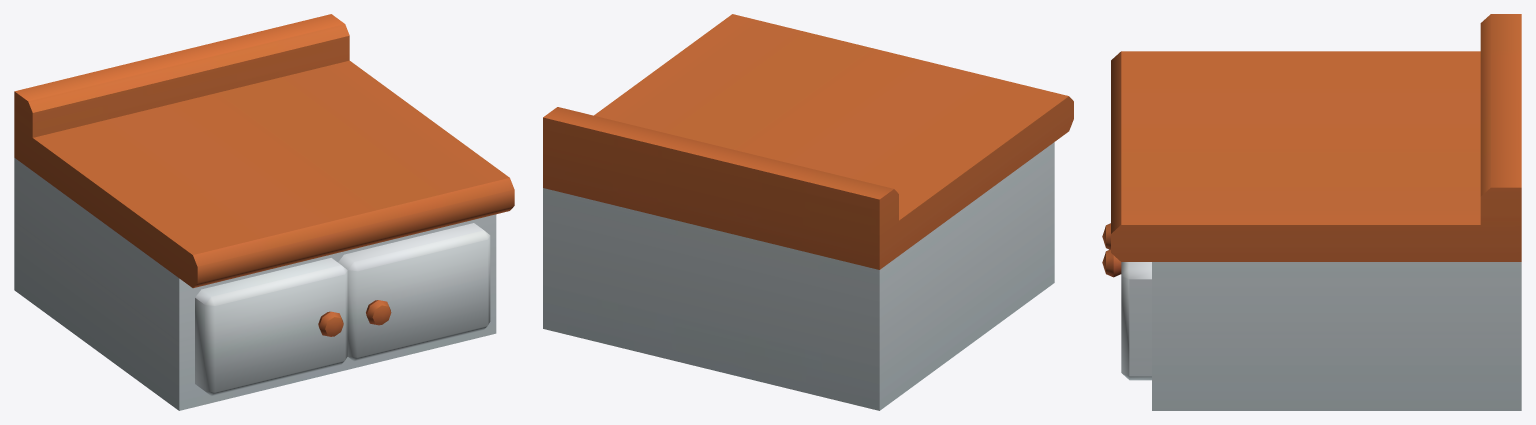
Rendered from kitchencounter-straight-b-backsplash.glb.
The picture shows the model from 3 angles, left to right: view 1: azimuth 30°, elevation 25°; view 2: azimuth 150°, elevation 25°; view 3: azimuth 270°, elevation 25°; orthographic projection. The views are drawn at different scales.
Visible parts, largest first — view 1: kitchencounter_straight_B_backsplash; view 2: kitchencounter_straight_B_backsplash; view 3: kitchencounter_straight_B_backsplash.
Part boxes in pixels (x1,y1,x2,y2): kitchencounter_straight_B_backsplash: (14, 14, 514, 410); kitchencounter_straight_B_backsplash: (543, 14, 1073, 410); kitchencounter_straight_B_backsplash: (1102, 14, 1521, 410).
Bounding box in the file's own units: 2 × 1.2 × 2.04.
1 material, 1 textured.
